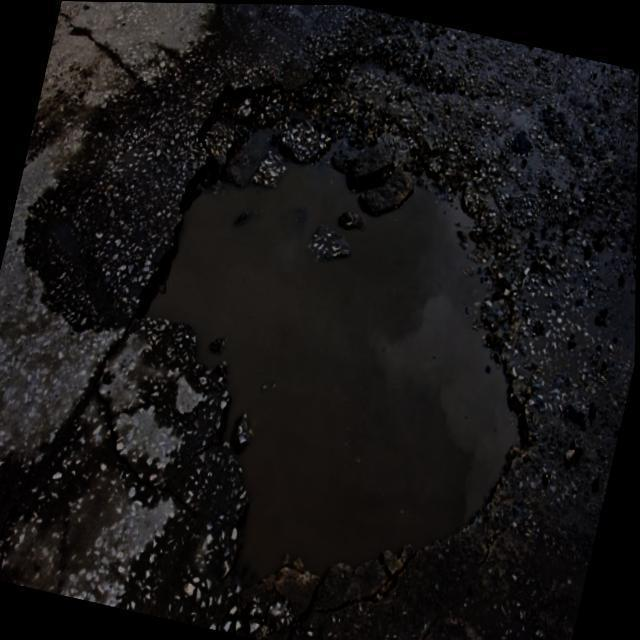Pothole: (29, 43, 616, 640)
